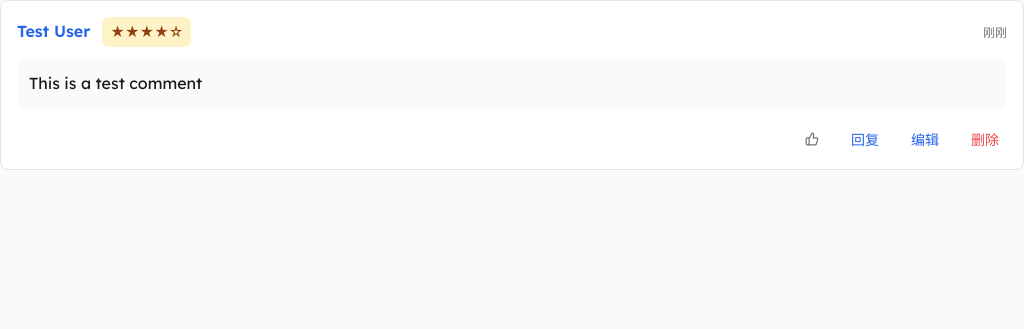
Scenario: CommentItem › shows MarkdownEditor when edit button is clicked
The image size is (1024, 329).
Click the button "编辑": point(925, 139) [903,125,947,153]
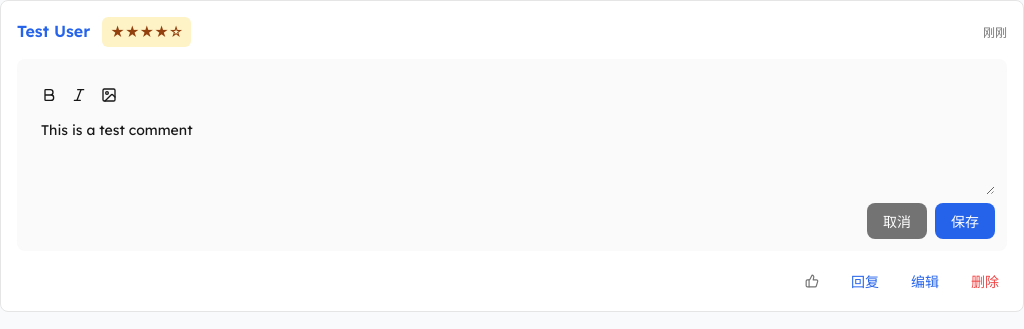
Now the text box showing "This is a test comment" is shown, box [29,111,995,195]
Now the button "保存" is shown, box [935,203,995,239]
